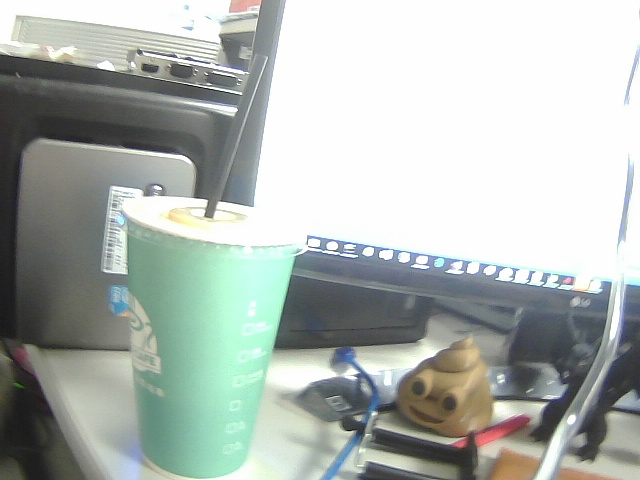beverage: (109, 48, 324, 480)
